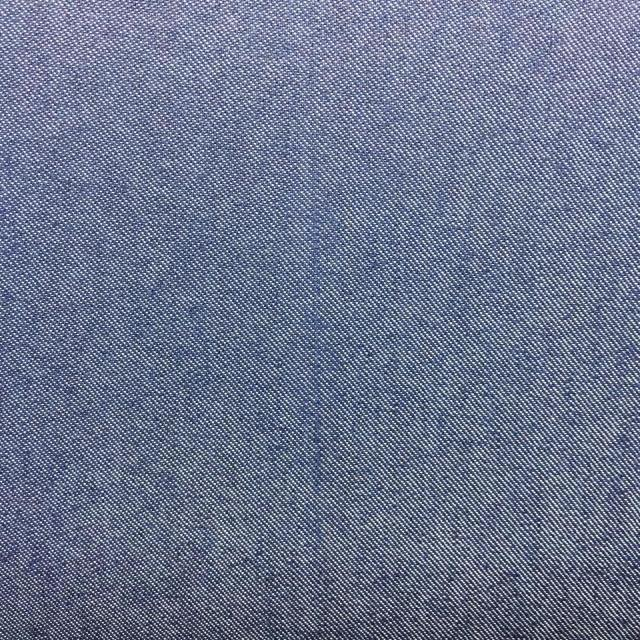Line: (303, 26, 327, 571)
